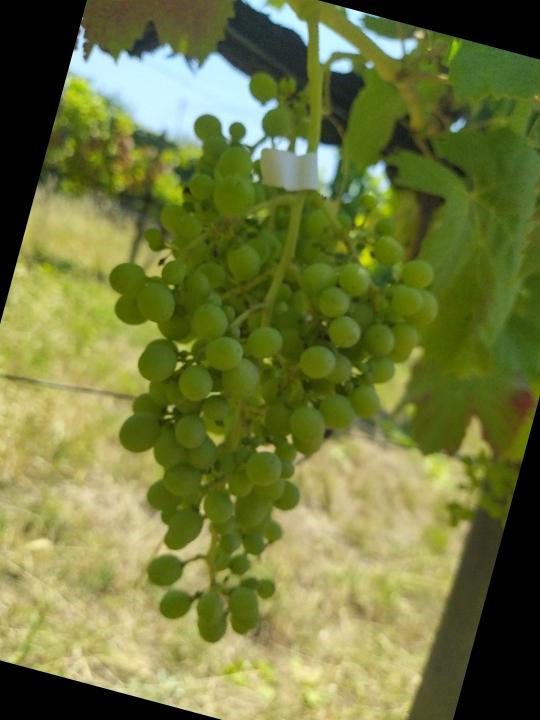grape: (22, 99, 475, 683)
